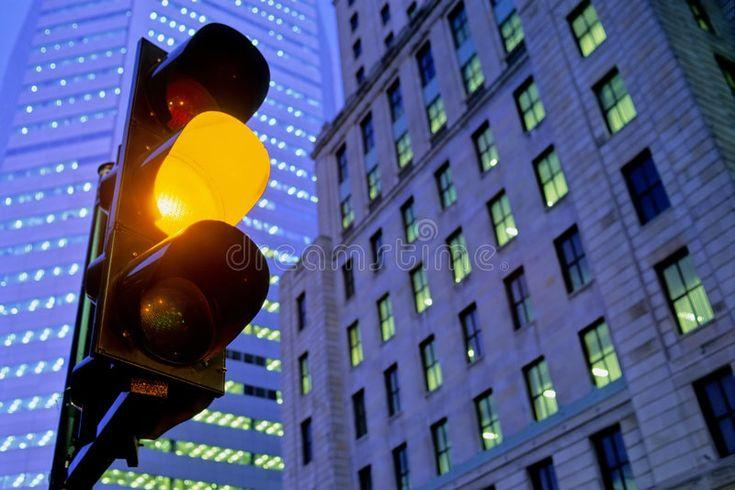traffic light: (39, 29, 290, 446)
